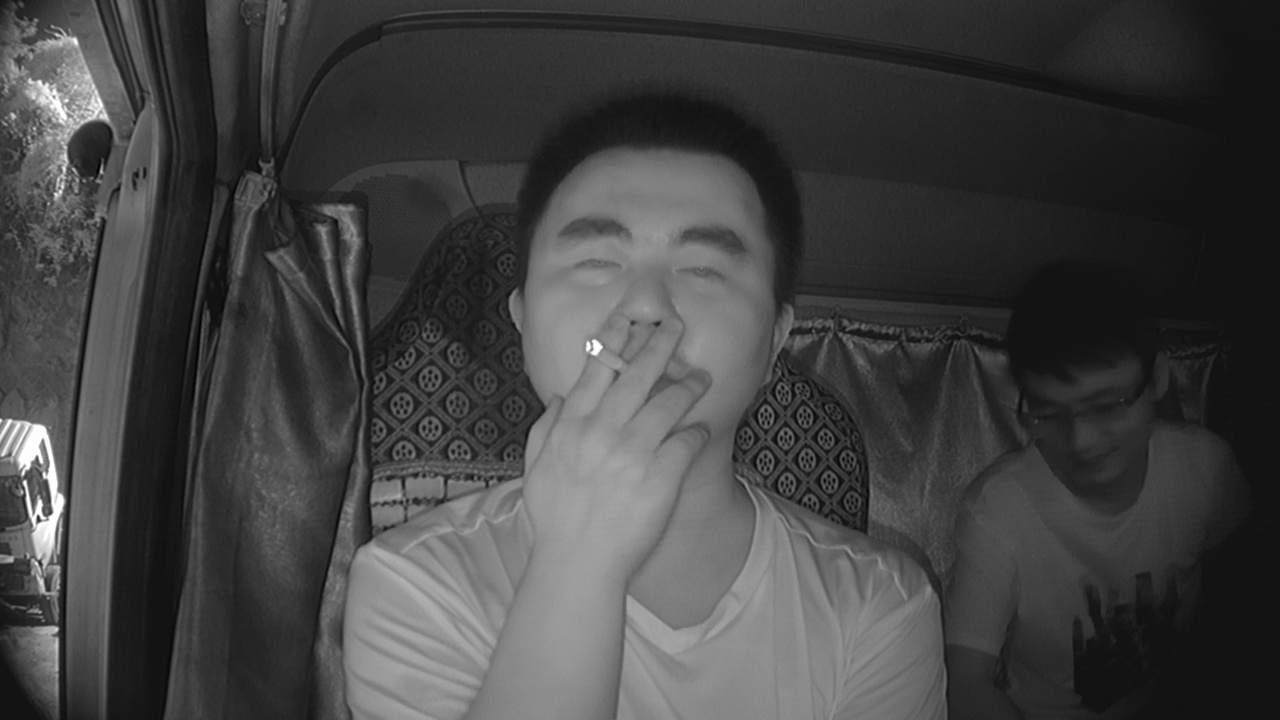hand: (534, 322, 709, 529)
